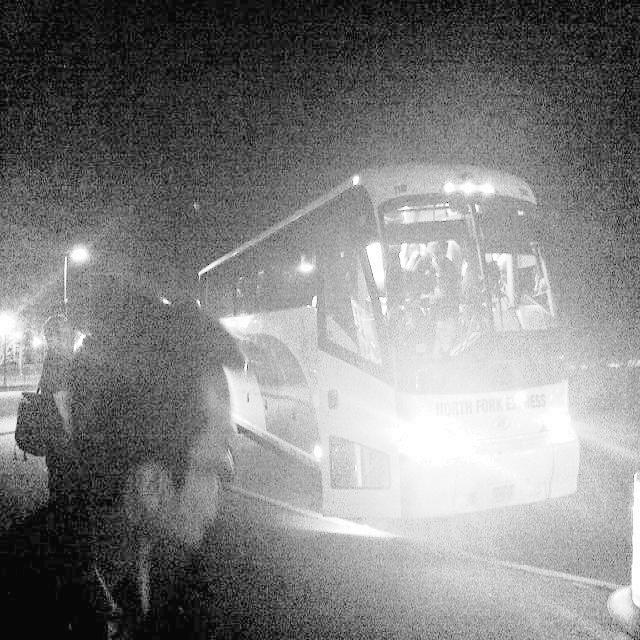Bus: (198, 199, 640, 563)
